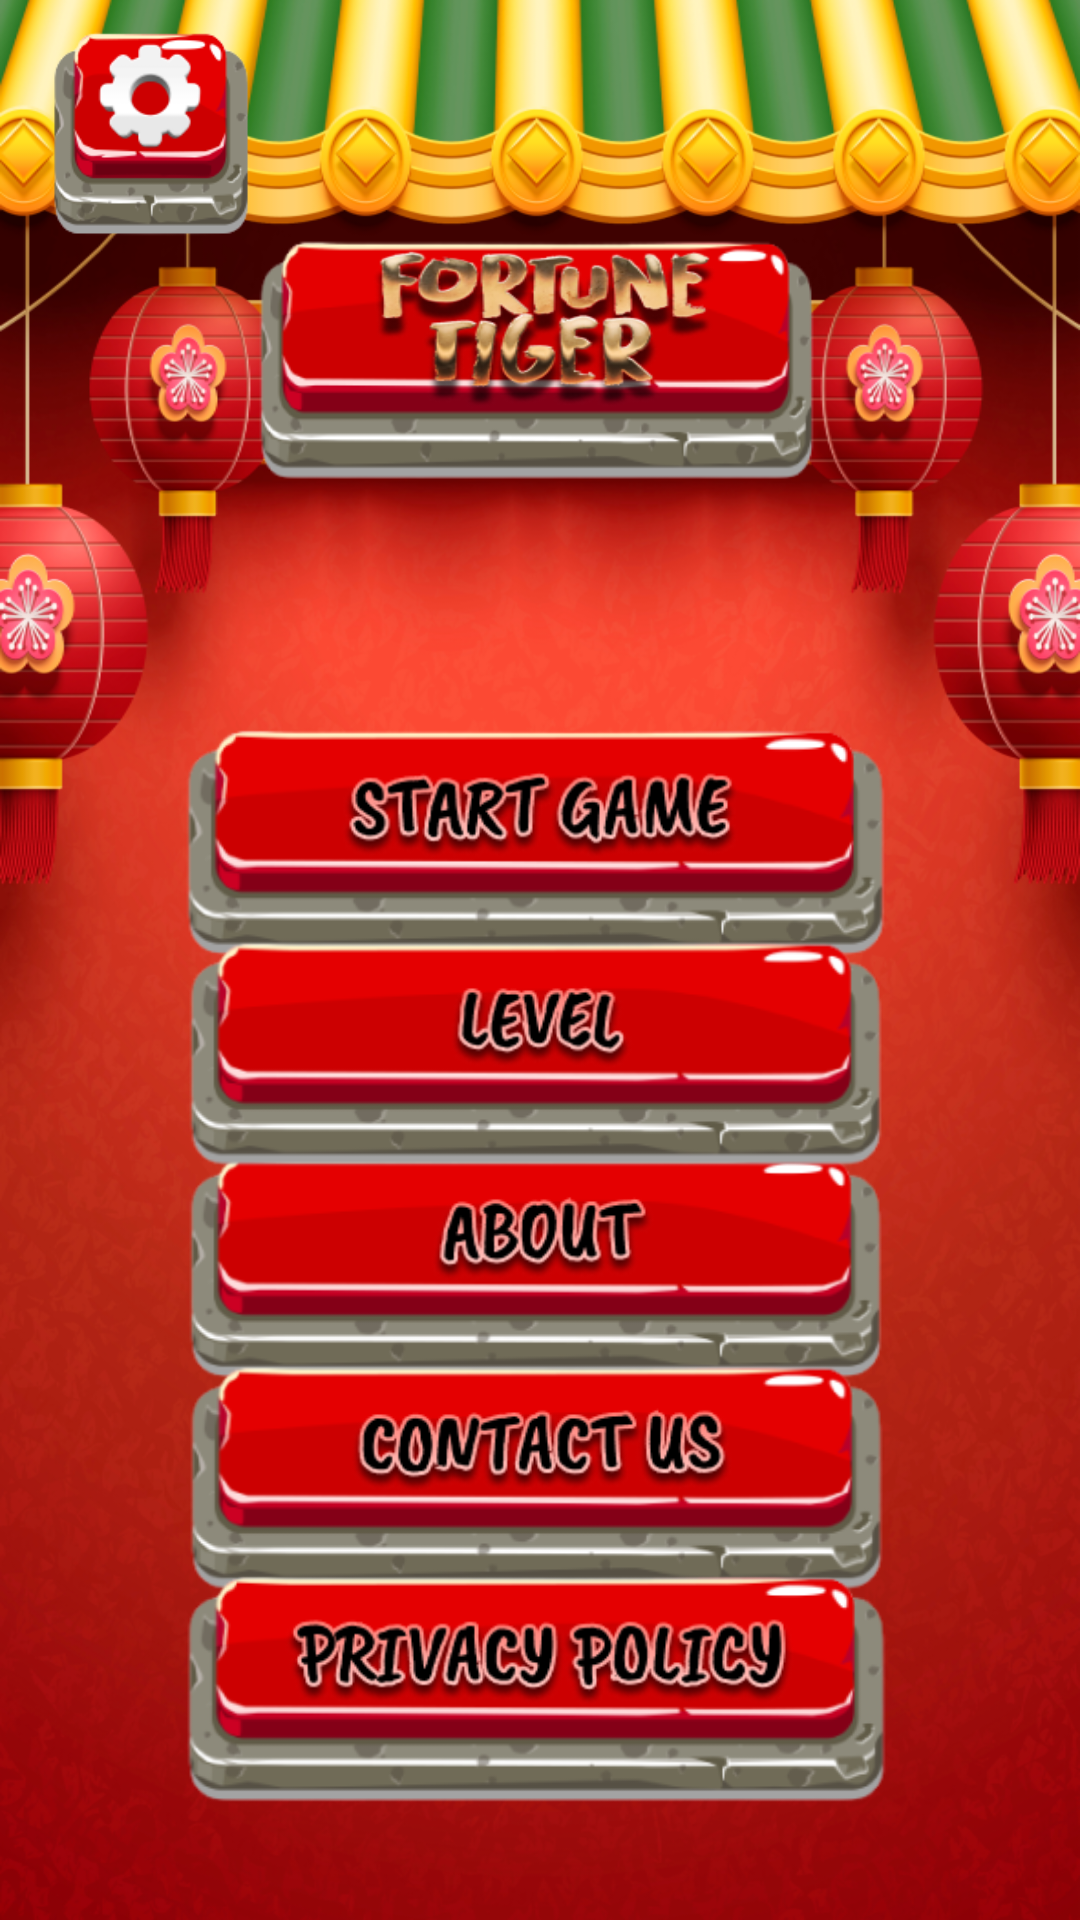

Where to tap for icons on this 1080 × 1920 app screen, as point (x, y):
setting tap: point (151, 129)
